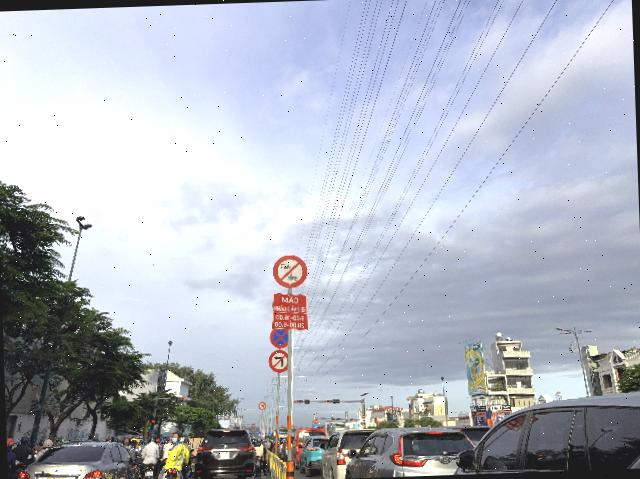cam-dung-va-do-xe: (269, 328, 289, 349)
cam-re-phai: (268, 350, 289, 374)
cam-xe-2-banh-3-banh: (271, 254, 309, 289)
